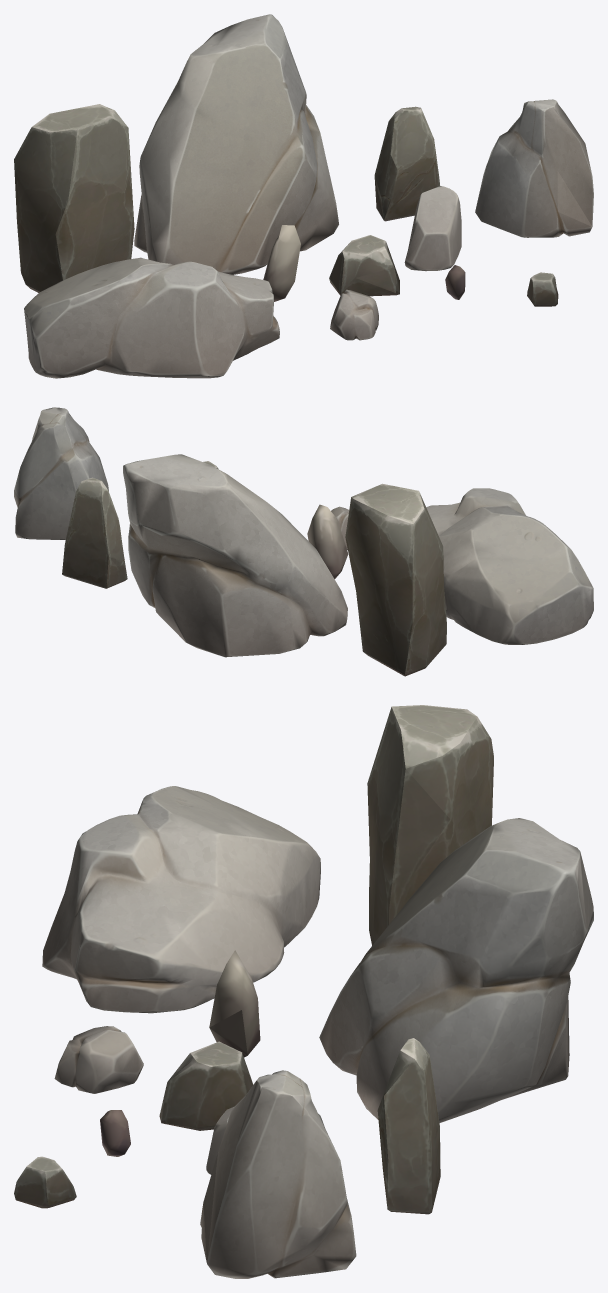
Rendered from free_pack_rocks_stylized.glb.
The picture shows the model from 3 angles, top to bottom: view 1: azimuth 30°, elevation 25°; view 2: azimuth 150°, elevation 25°; view 3: azimuth 270°, elevation 25°; orthographic projection. The views are drawn at different scales.
Parts seen in each view (by area): view 1: SM_Rocks_04, SM_Rocks_03, SM_Rocks_09, SM_Rocks_05, SM_Rocks_08, SM_Rocks_02, SM_Rocks_07, SM_Rocks_01, SM_Rocks_11, SM_Rocks_06, SM_Rocks_10; view 2: SM_Rocks_04, SM_Rocks_03, SM_Rocks_09, SM_Rocks_05, SM_Rocks_08, SM_Rocks_11; view 3: SM_Rocks_04, SM_Rocks_03, SM_Rocks_05, SM_Rocks_09, SM_Rocks_08, SM_Rocks_07, SM_Rocks_01, SM_Rocks_11, SM_Rocks_06, SM_Rocks_10.
Boxes of the visible parts, x1,y1,x2,y2 form: SM_Rocks_04: [134, 14, 338, 274]; SM_Rocks_03: [24, 257, 279, 378]; SM_Rocks_09: [14, 104, 134, 292]; SM_Rocks_05: [475, 99, 593, 237]; SM_Rocks_08: [374, 106, 439, 221]; SM_Rocks_02: [404, 186, 461, 271]; SM_Rocks_07: [329, 235, 399, 296]; SM_Rocks_01: [330, 289, 378, 340]; SM_Rocks_11: [263, 225, 300, 301]; SM_Rocks_06: [527, 272, 558, 306]; SM_Rocks_10: [445, 265, 465, 299]; SM_Rocks_04: [123, 454, 347, 657]; SM_Rocks_03: [426, 488, 593, 644]; SM_Rocks_09: [345, 483, 446, 676]; SM_Rocks_05: [14, 407, 108, 539]; SM_Rocks_08: [62, 477, 127, 588]; SM_Rocks_11: [307, 504, 348, 578]; SM_Rocks_04: [319, 818, 593, 1122]; SM_Rocks_03: [42, 786, 320, 1013]; SM_Rocks_05: [200, 1070, 356, 1278]; SM_Rocks_09: [367, 705, 493, 945]; SM_Rocks_08: [377, 1038, 440, 1214]; SM_Rocks_07: [159, 1041, 253, 1130]; SM_Rocks_01: [54, 1026, 143, 1093]; SM_Rocks_11: [209, 950, 260, 1057]; SM_Rocks_06: [14, 1156, 76, 1208]; SM_Rocks_10: [100, 1110, 130, 1156].
Size of the model in its own units: 5.59 by 1.7 by 3.35.
Materials: 1 (1 with a texture image).
